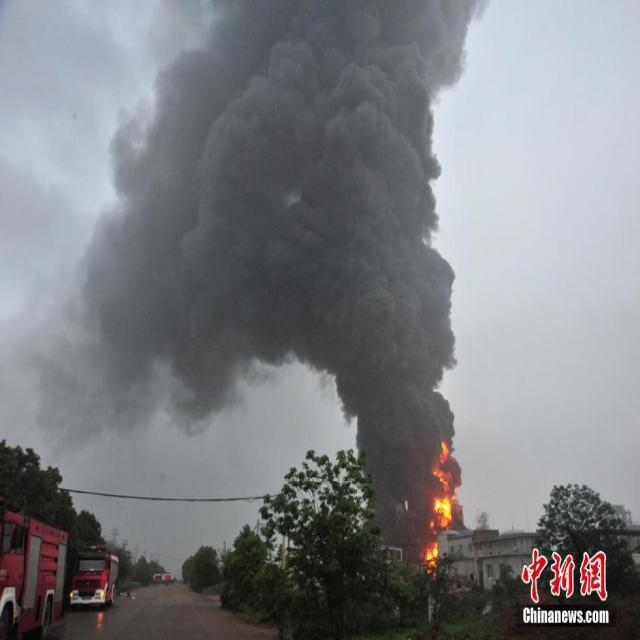fire: (423, 431, 458, 568)
other: (0, 496, 124, 618), (518, 534, 607, 615)
smoke: (77, 7, 458, 432), (361, 432, 416, 576)
